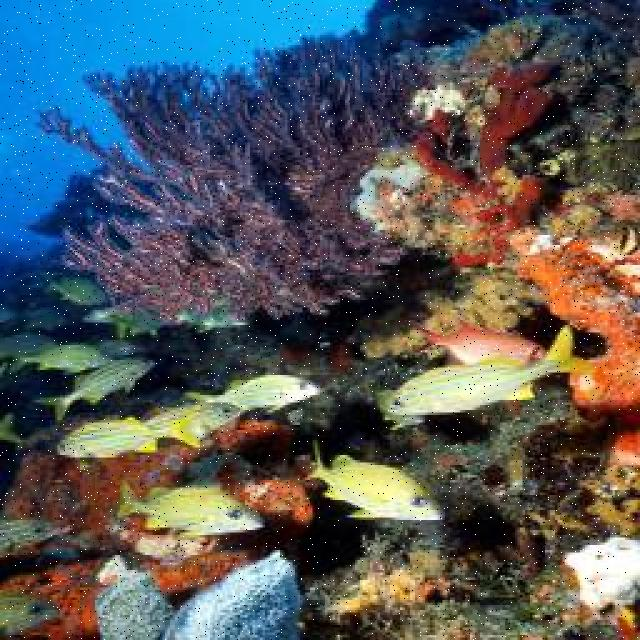fish: (388, 325, 598, 415), (299, 442, 448, 520), (117, 478, 265, 537), (33, 358, 155, 424), (55, 407, 203, 458), (408, 315, 546, 367), (186, 375, 324, 414), (139, 403, 250, 445), (0, 518, 72, 560), (0, 590, 63, 637), (85, 307, 166, 340), (24, 345, 113, 375), (0, 333, 58, 372), (42, 274, 108, 305), (376, 391, 426, 430), (183, 304, 247, 331), (602, 432, 638, 469), (96, 338, 145, 357), (1, 413, 23, 441)
reefs: (56, 27, 437, 326), (511, 234, 638, 425), (415, 107, 548, 264), (96, 551, 301, 638)
